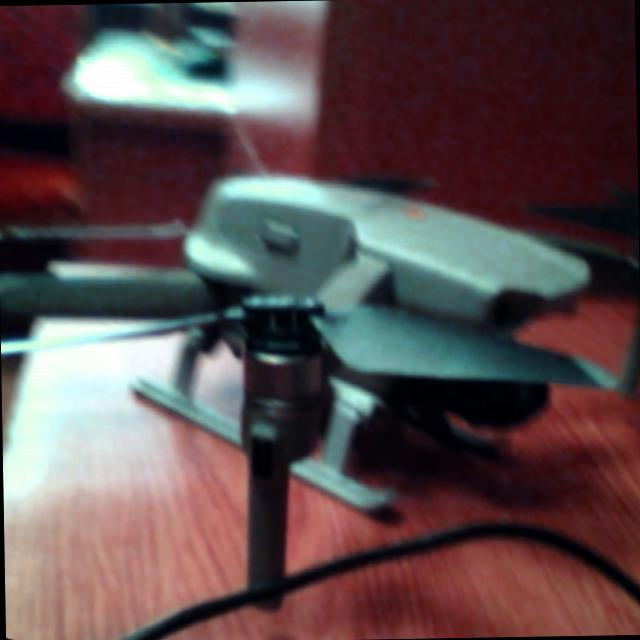drone: (0, 107, 640, 595)
